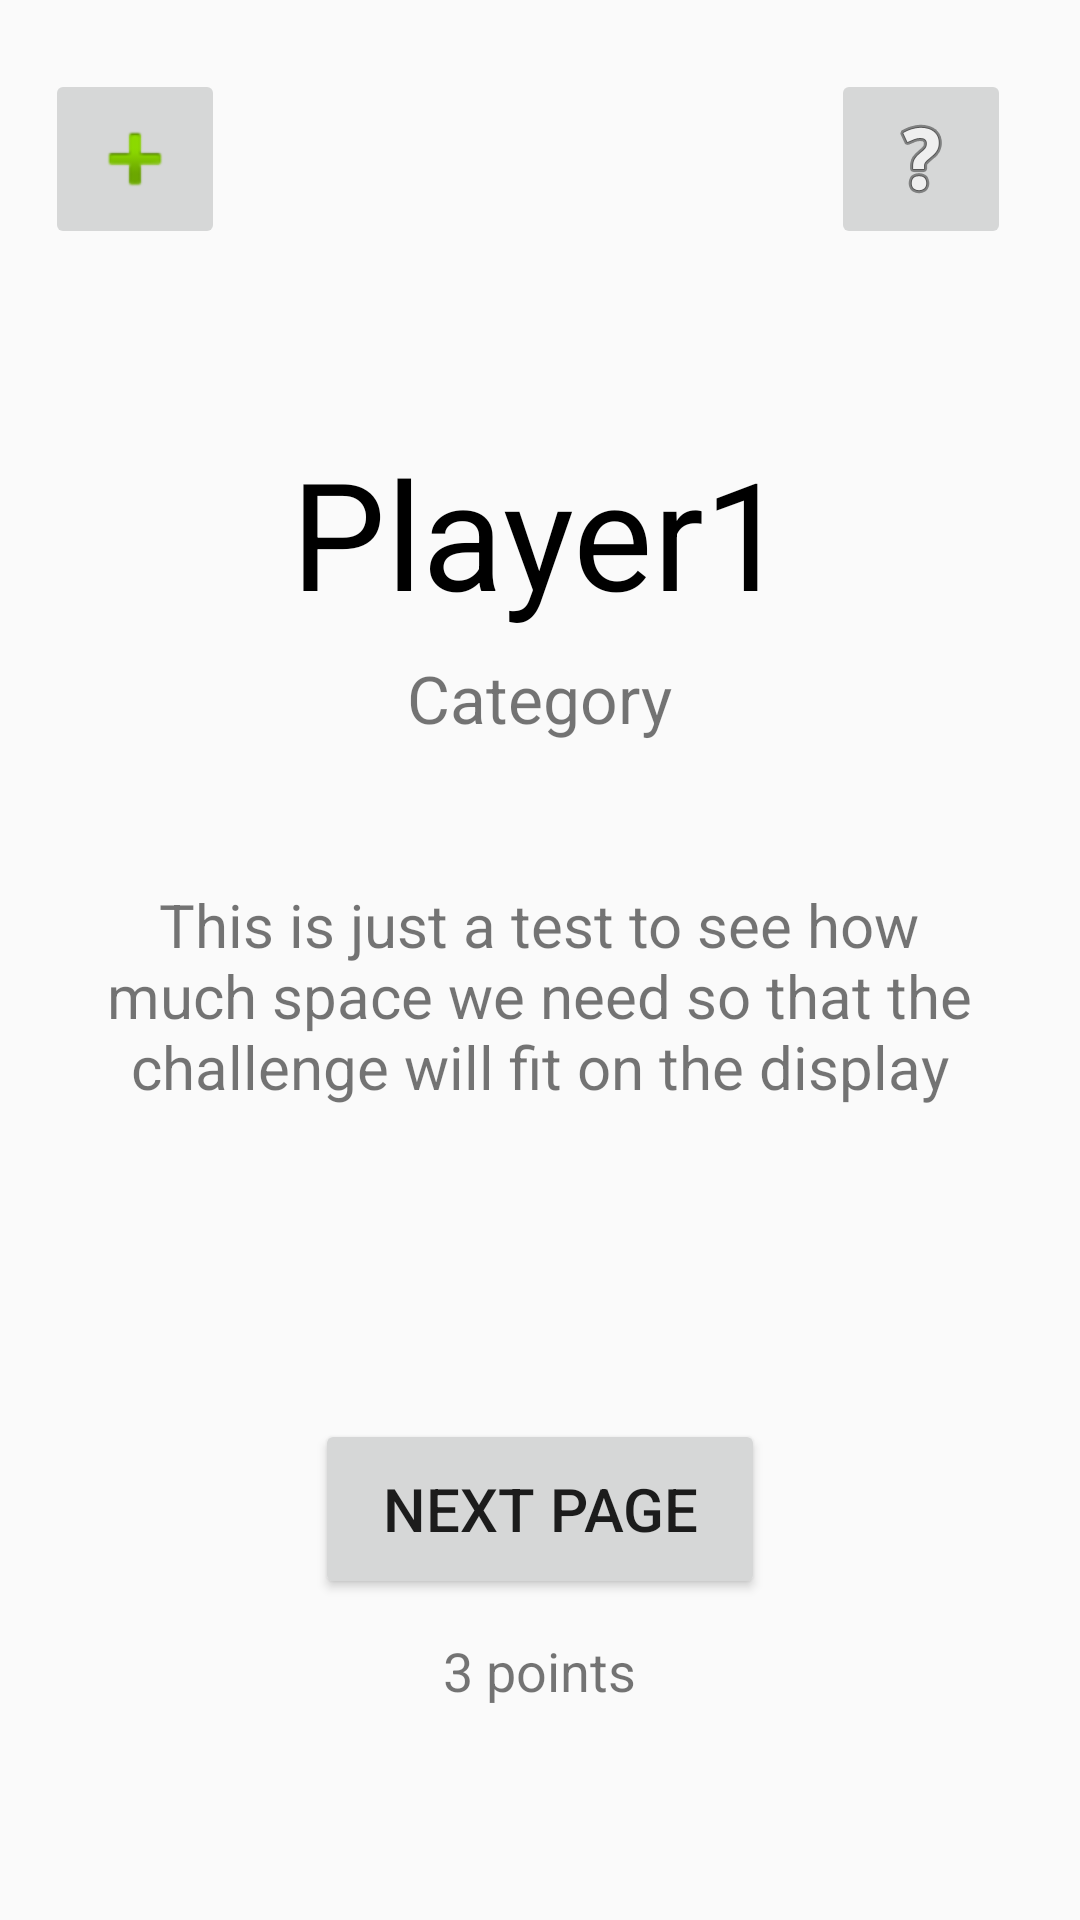

Screen size 1080 x 1920. Icon name, then its box in pixels as (x1, y1, x2, y2):
add: (57, 87, 213, 231)
help: (843, 87, 999, 231)
